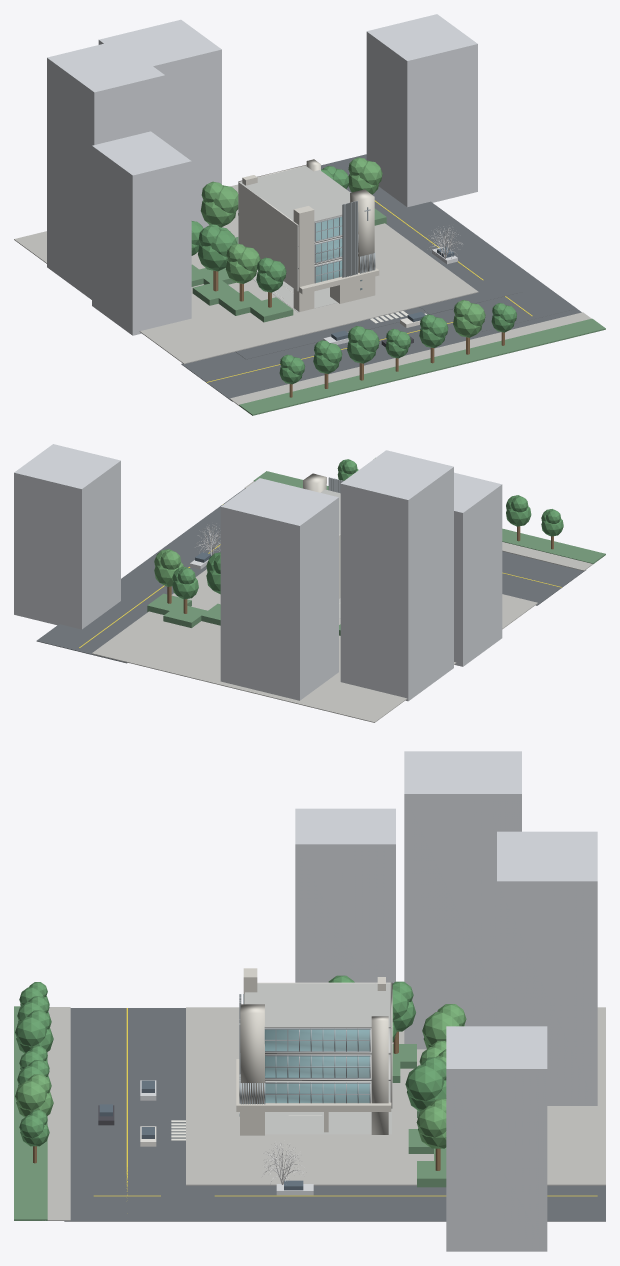
The model's file is church-model-release-20261104.glb.
3 renders of one model, top to bottom at view 1: azimuth 30°, elevation 25°; view 2: azimuth 150°, elevation 25°; view 3: azimuth 270°, elevation 25°, orthographic. The views are drawn at different scales.
Visible parts, largest first — view 1: ENV_CITY_BLDG_03, ENV_CITY_BLDG_00, ENV_CITY_BLDG_01, SIDEWALK_FRONT.001, ENV_CITY_BLDG_02, ENV_ROAD_MAIN_RIGHT, ENV_ROAD_MAIN_FRONT, ENV_OPPOSITE_GREEN_STRIP, F3_WEST_EDGE.001, ROOF_MAIN.001, ENV_OPPOSITE_SIDEWALK, ROAD_FRONT.001 (+10 smaller); view 2: ENV_CITY_BLDG_01, ENV_CITY_BLDG_02, ENV_CITY_BLDG_03, SIDEWALK_FRONT.001, ENV_CITY_BLDG_00, ENV_ROAD_MAIN_RIGHT, ENV_ROAD_MAIN_FRONT, ENV_OPPOSITE_GREEN_STRIP, ENV_OPPOSITE_SIDEWALK, ENV_HILL_MOUND_09, ENV_HILL_MOUND_10, ENV_HILL_TREE_09_Leaf_0; view 3: ENV_CITY_BLDG_01, ENV_CITY_BLDG_02, SIDEWALK_FRONT.001, ENV_CITY_BLDG_03, ENV_CITY_BLDG_00, ENV_ROAD_MAIN_RIGHT, ENV_ROAD_MAIN_FRONT, ROOF_MAIN.001, ENV_OPPOSITE_SIDEWALK, ROAD_FRONT.001, ENV_OPPOSITE_GREEN_STRIP, SIDEWALK_RIGHT.001 (+18 smaller).
Boxes of the visible parts, box(x1,y1,x2,y2) form: ENV_CITY_BLDG_03: box(366, 14, 477, 207); ENV_CITY_BLDG_00: box(92, 131, 191, 335); ENV_CITY_BLDG_01: box(47, 40, 164, 299); SIDEWALK_FRONT.001: box(14, 184, 478, 364); ENV_CITY_BLDG_02: box(98, 19, 221, 228); ENV_ROAD_MAIN_RIGHT: box(321, 154, 576, 331); ENV_ROAD_MAIN_FRONT: box(181, 309, 581, 401); ENV_OPPOSITE_GREEN_STRIP: box(239, 318, 605, 415); F3_WEST_EDGE.001: box(238, 182, 298, 291); ROOF_MAIN.001: box(239, 166, 350, 226); ENV_OPPOSITE_SIDEWALK: box(229, 312, 591, 407); ROAD_FRONT.001: box(235, 276, 522, 359); ENV_CITY_BLDG_01: box(340, 450, 453, 701); ENV_CITY_BLDG_02: box(220, 478, 338, 700); ENV_CITY_BLDG_03: box(14, 444, 120, 629); SIDEWALK_FRONT.001: box(92, 569, 537, 722); ENV_CITY_BLDG_00: box(454, 472, 502, 666); ENV_ROAD_MAIN_RIGHT: box(36, 492, 239, 663); ENV_ROAD_MAIN_FRONT: box(239, 488, 585, 605); ENV_OPPOSITE_GREEN_STRIP: box(253, 471, 605, 564); ENV_OPPOSITE_SIDEWALK: box(245, 481, 592, 570); ENV_HILL_MOUND_09: box(163, 606, 207, 627); ENV_HILL_MOUND_10: box(147, 593, 191, 614); ENV_HILL_TREE_09_Leaf_0: box(172, 578, 198, 599); ENV_CITY_BLDG_01: box(404, 751, 521, 1049); ENV_CITY_BLDG_02: box(497, 831, 597, 1105); SIDEWALK_FRONT.001: box(186, 1007, 605, 1185); ENV_CITY_BLDG_03: box(446, 1026, 547, 1251); ENV_CITY_BLDG_00: box(295, 808, 395, 983); ENV_ROAD_MAIN_RIGHT: box(85, 1164, 605, 1221); ENV_ROAD_MAIN_FRONT: box(64, 1008, 185, 1221); ROOF_MAIN.001: box(245, 983, 391, 1028); ENV_OPPOSITE_SIDEWALK: box(45, 1007, 70, 1220); ROAD_FRONT.001: box(161, 1039, 214, 1206); ENV_OPPOSITE_GREEN_STRIP: box(14, 1006, 47, 1220); SIDEWALK_RIGHT.001: box(245, 1134, 408, 1149).
Bounding box in the file's own units: 69 × 38.28 × 70.5.
